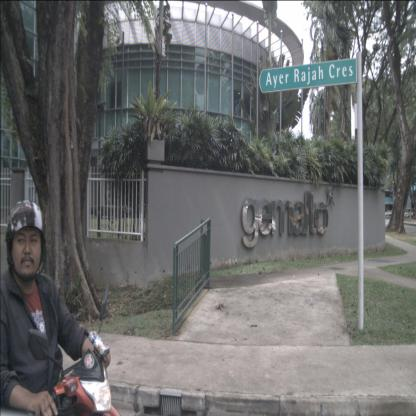vehicle-motorcycle: (0, 199, 122, 415)
vehicle-truck: (404, 208, 416, 218)
